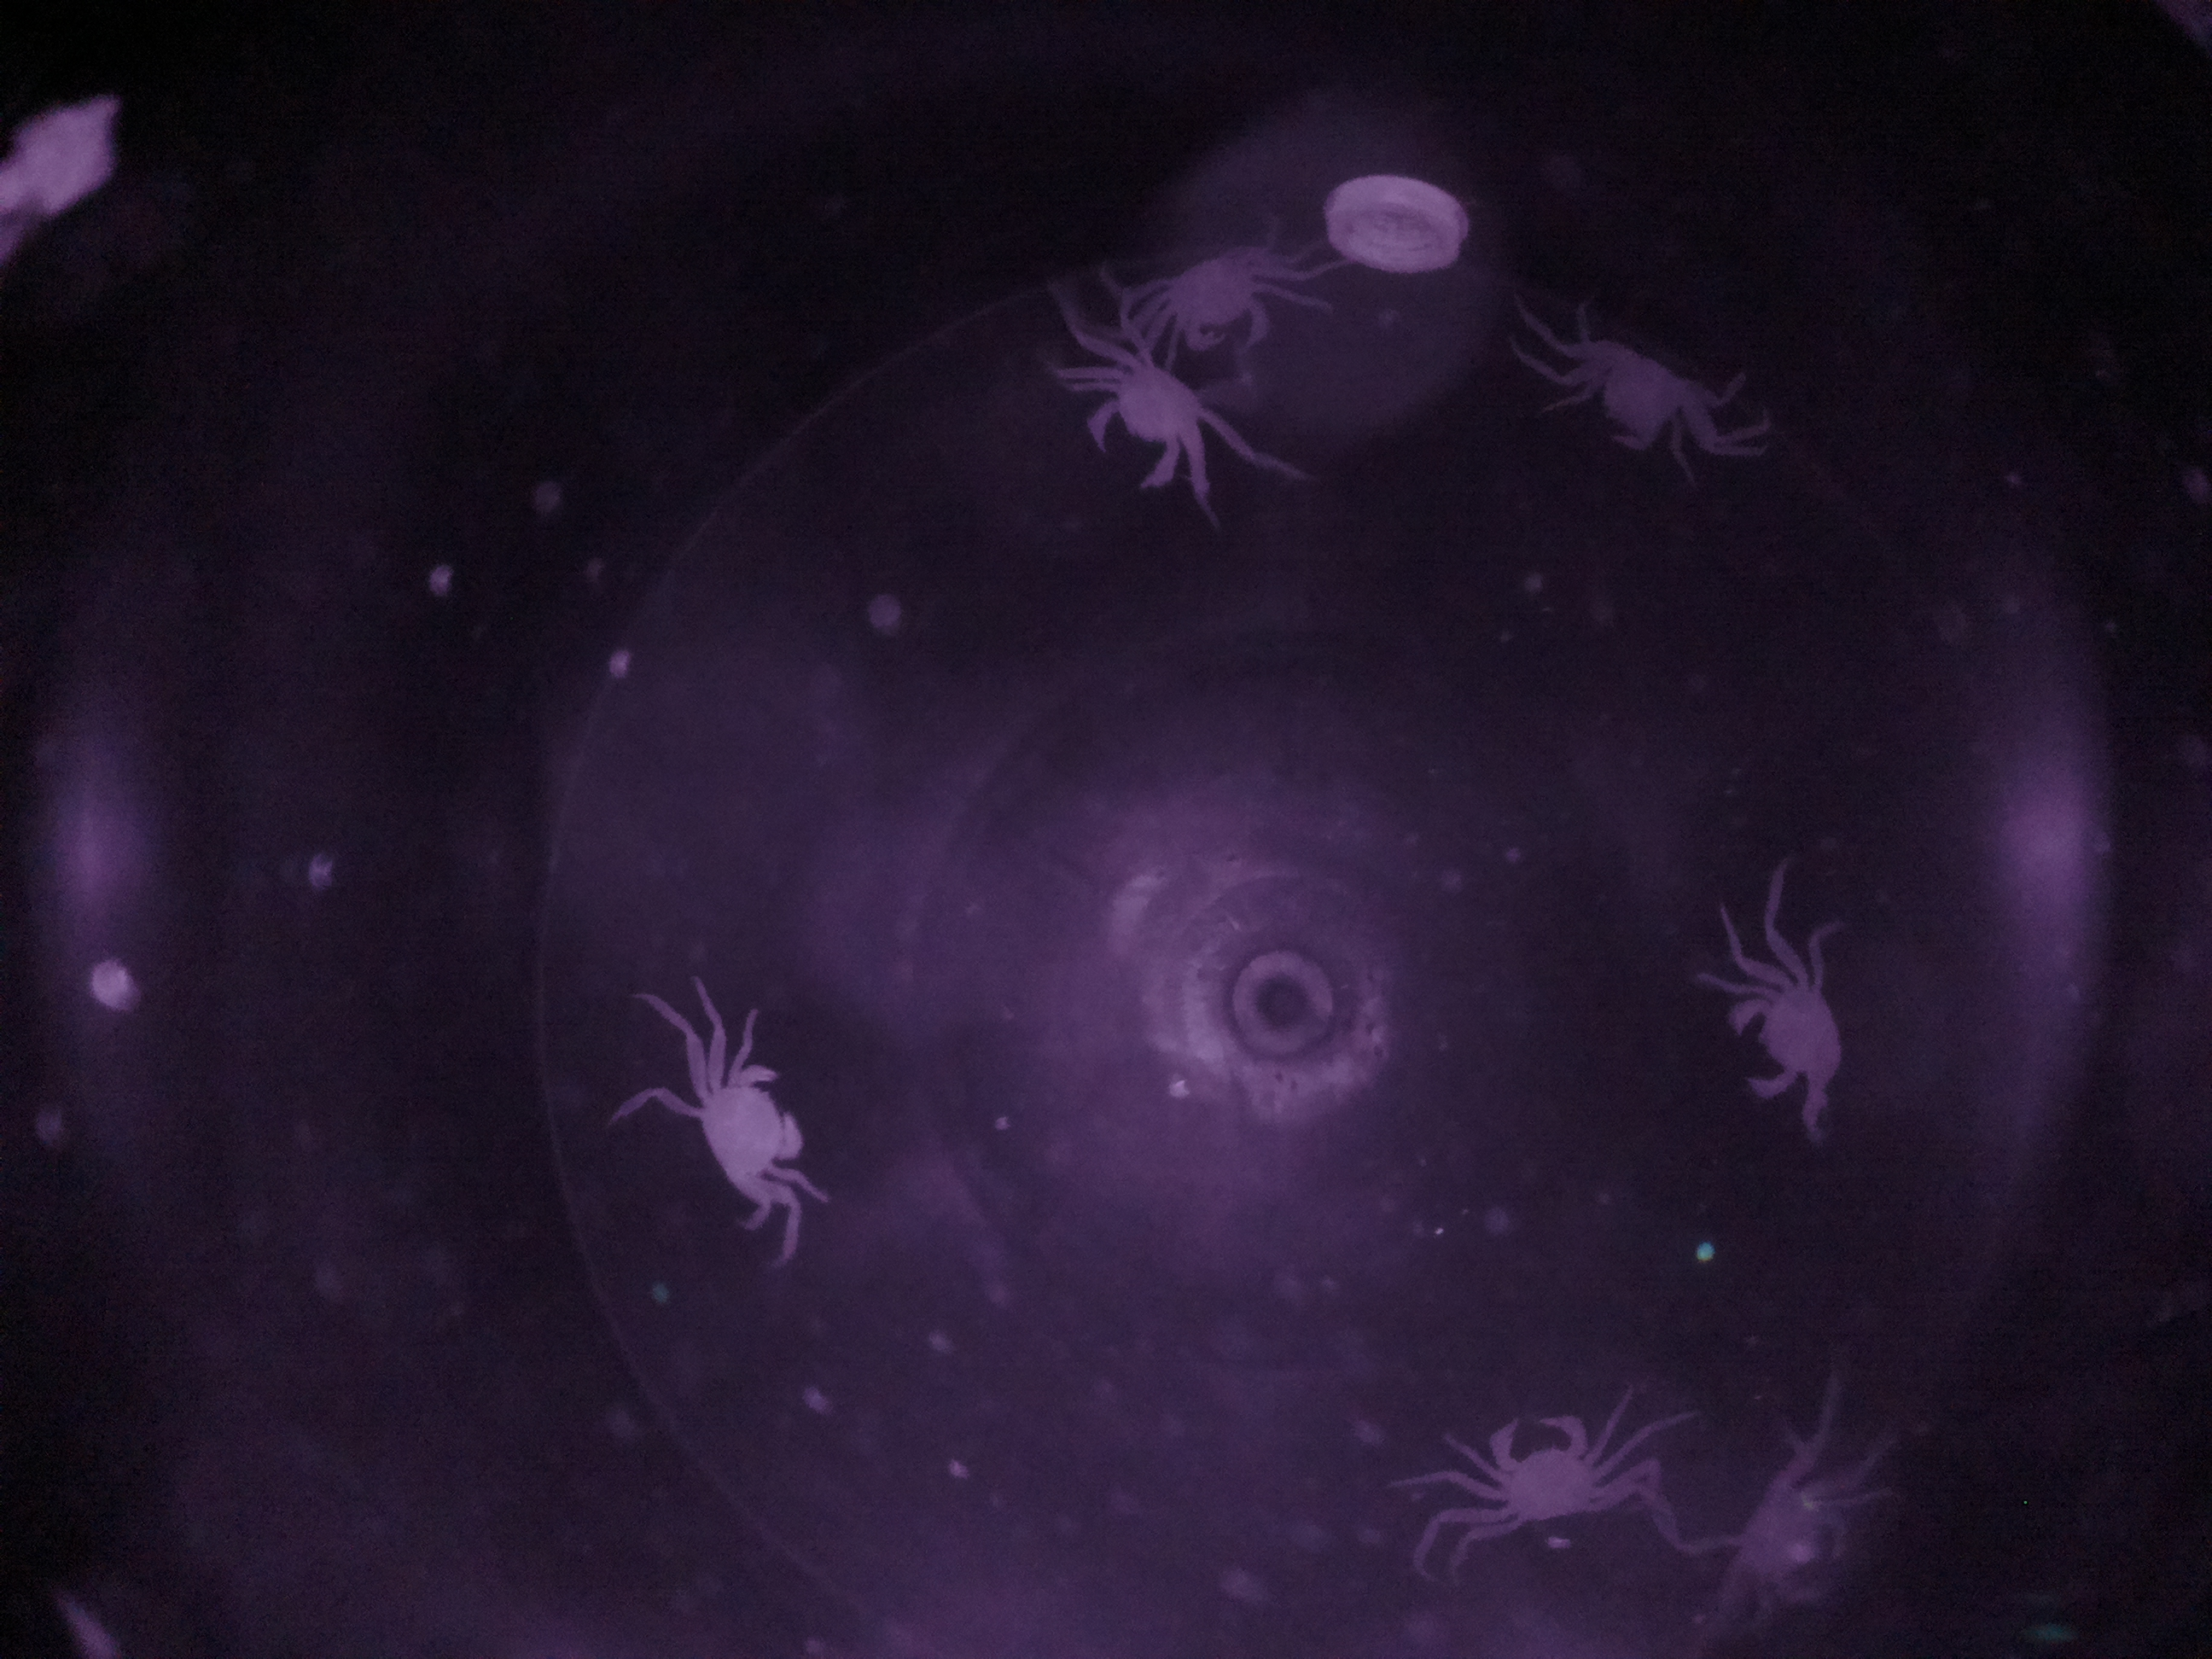Crab: (653, 1051, 820, 1222), (1723, 945, 1865, 1131), (1076, 335, 1226, 511), (1463, 1387, 1609, 1551)
